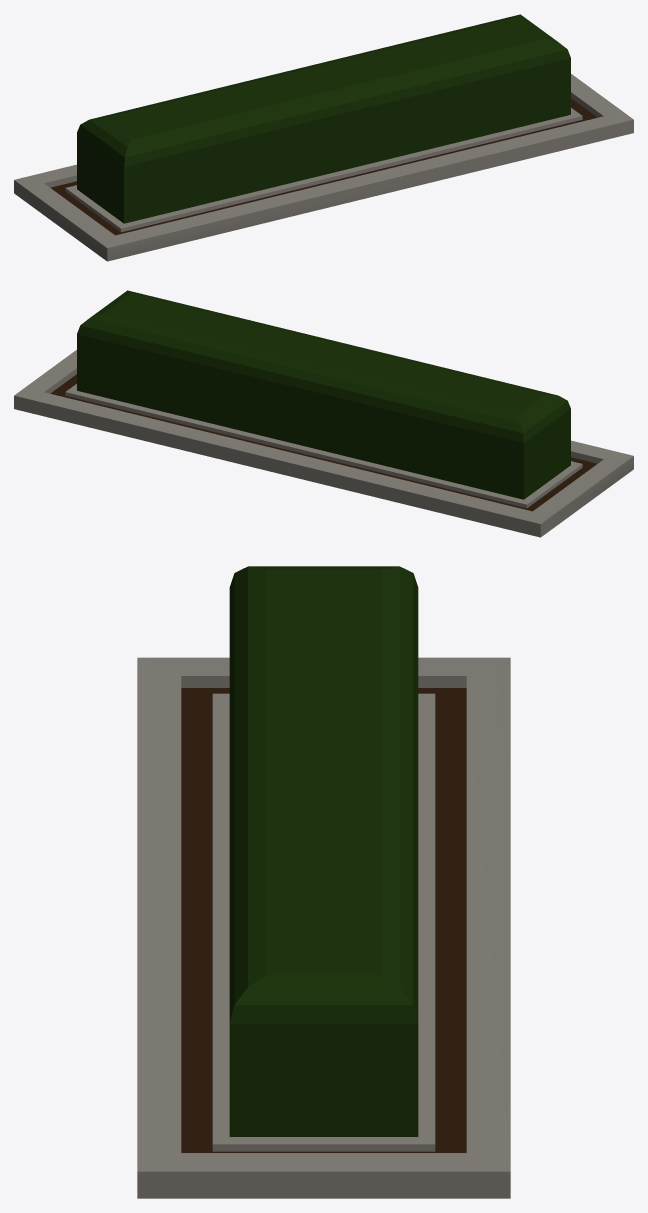
File: AssetsMatheus.fbx_ArbustoAlto.fbx
3 views of the same model, one above another, from view 1: azimuth 30°, elevation 25°; view 2: azimuth 150°, elevation 25°; view 3: azimuth 270°, elevation 25° (orthographic). The views are drawn at different scales.
Parts seen in each view (by area): view 1: ArbustoAlto; view 2: ArbustoAlto; view 3: ArbustoAlto.
Boxes of the visible parts, x1,y1,x2,y2 form: ArbustoAlto: [14, 14, 633, 261]; ArbustoAlto: [14, 290, 633, 537]; ArbustoAlto: [137, 566, 510, 1198].
Size of the model in its own units: 136 by 20.87 by 41.71.
